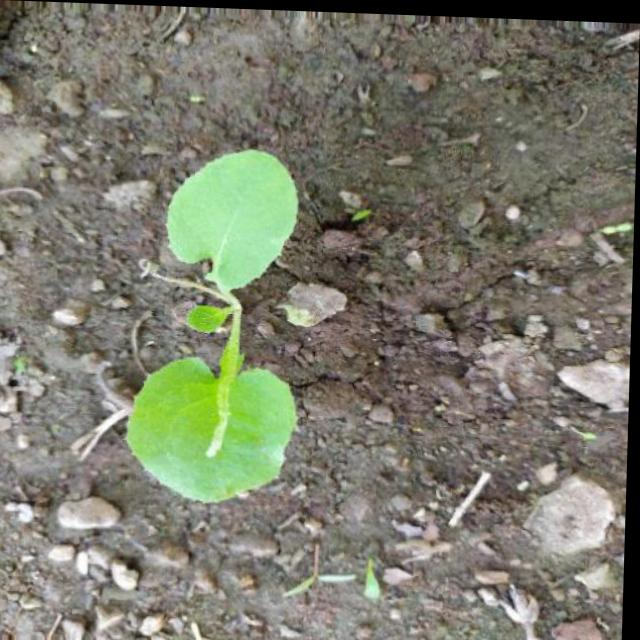weed: (120, 121, 311, 526)
